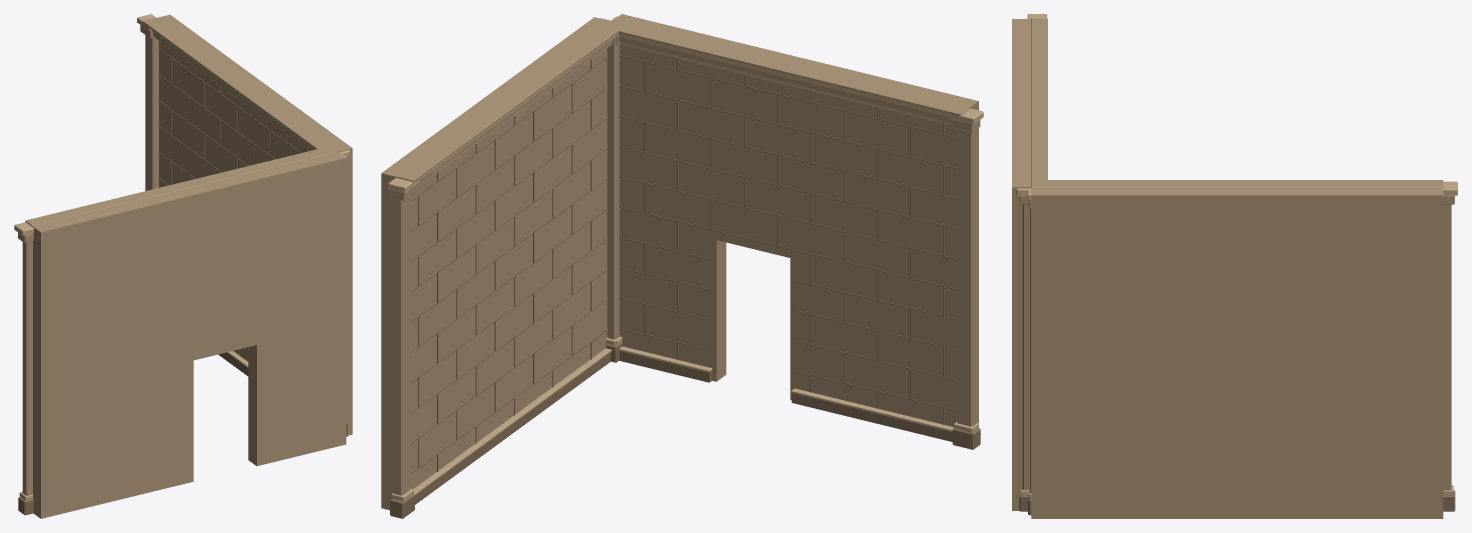
Rendered from service_stair_m_complete_shell.glb.
The picture shows the model from 3 angles, left to right: view 1: azimuth 30°, elevation 25°; view 2: azimuth 150°, elevation 25°; view 3: azimuth 270°, elevation 25°; orthographic projection. The views are drawn at different scales.
Parts seen in each view (by area): view 1: service_stair_M_front_Wall_Solid_00, service_stair_M_right_Wall_Solid_00, Pilaster_Shaft_009, service_stair_M_right_Wall_Cornice_00_3_0, service_stair_M_front_Wall_Cornice_00_3_0, Pilaster_Shaft_004, service_stair_M_right_Masonry_Real_joint_mesh, service_stair_M_right_Wall_Cornice_00_1_0, service_stair_M_right_Wall_Cornice_00_2_0; view 2: service_stair_M_front_Wall_Solid_00, service_stair_M_right_Wall_Solid_00, service_stair_M_front_Masonry_Real_joint_mesh, service_stair_M_right_Masonry_Real_joint_mesh, Pilaster_Shaft_009, Pilaster_Shaft_004, service_stair_M_front_Wall_Cornice_00_3_0, service_stair_M_right_Wall_Cornice_00_3_0, Pilaster_Shaft_008, service_stair_M_front_Wall_Cornice_00_1_0, service_stair_M_right_Wall_Skirting_00_0, service_stair_M_front_Wall_Skirting_00_1 (+7 smaller); view 3: service_stair_M_right_Wall_Solid_00, service_stair_M_front_Wall_Solid_00, service_stair_M_right_Wall_Cornice_00_3_0, service_stair_M_front_Wall_Cornice_00_3_0, Pilaster_Shaft_004, Pilaster_Shaft_005, Pilaster_Shaft_008.
Boxes of the visible parts, x1,y1,x2,y2 form: service_stair_M_front_Wall_Solid_00: (32,152,346,518); service_stair_M_right_Wall_Solid_00: (156,14,352,435); Pilaster_Shaft_009: (22,241,32,495); service_stair_M_right_Wall_Cornice_00_3_0: (142,18,336,153); service_stair_M_front_Wall_Cornice_00_3_0: (25,147,337,226); Pilaster_Shaft_004: (145,35,158,190); service_stair_M_right_Masonry_Real_joint_mesh: (158,48,301,347); service_stair_M_right_Wall_Cornice_00_1_0: (153,32,313,150); service_stair_M_right_Wall_Cornice_00_2_0: (151,29,315,149); service_stair_M_front_Wall_Solid_00: (612,14,978,426); service_stair_M_right_Wall_Solid_00: (381,17,611,510); service_stair_M_front_Masonry_Real_joint_mesh: (619,55,957,424); service_stair_M_right_Masonry_Real_joint_mesh: (410,56,608,474); Pilaster_Shaft_009: (957,129,976,426); Pilaster_Shaft_004: (393,197,410,495); service_stair_M_front_Wall_Cornice_00_3_0: (605,21,968,116); service_stair_M_right_Wall_Cornice_00_3_0: (398,21,624,182); Pilaster_Shaft_008: (607,45,615,339); service_stair_M_front_Wall_Cornice_00_1_0: (619,36,951,122); service_stair_M_right_Wall_Skirting_00_0: (415,352,610,504); service_stair_M_front_Wall_Skirting_00_1: (791,393,952,441); service_stair_M_right_Wall_Solid_00: (1031,187,1443,518); service_stair_M_front_Wall_Solid_00: (1012,19,1031,510); service_stair_M_right_Wall_Cornice_00_3_0: (1031,180,1443,187); service_stair_M_front_Wall_Cornice_00_3_0: (1031,18,1047,186); Pilaster_Shaft_004: (1443,204,1451,490); Pilaster_Shaft_005: (1022,204,1029,490); Pilaster_Shaft_008: (1030,208,1031,492).
Bounding box in the file's own units: 6.3 × 5.21 × 6.5.
